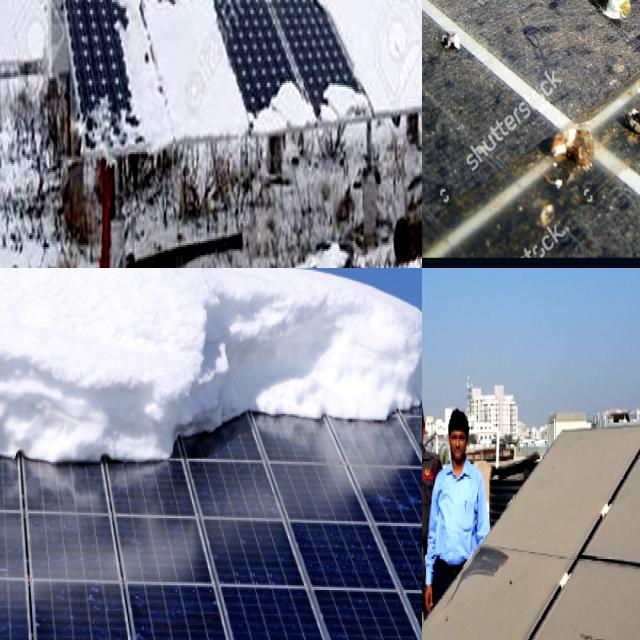bird: (544, 96, 600, 186), (423, 26, 475, 64), (614, 76, 640, 147), (586, 0, 635, 37)
dust: (544, 435, 640, 557), (464, 556, 542, 612)
panel: (37, 268, 218, 468), (228, 268, 422, 438), (111, 0, 245, 140), (0, 268, 76, 467), (203, 0, 358, 73), (88, 0, 194, 67), (354, 0, 422, 101), (0, 268, 24, 488), (252, 61, 312, 138), (365, 0, 422, 68), (319, 71, 366, 124)
